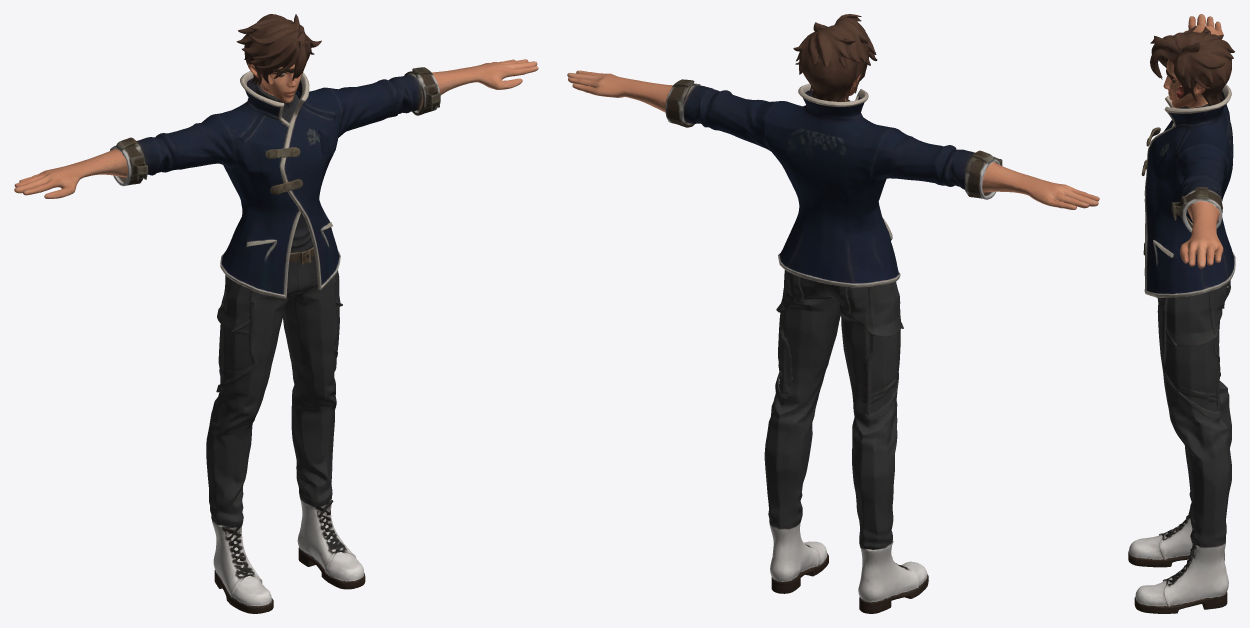
File: rowan-prototype.glb
3 views of the same model, side by side, from view 1: azimuth 30°, elevation 25°; view 2: azimuth 150°, elevation 25°; view 3: azimuth 270°, elevation 25° (orthographic). The views are drawn at different scales.
Parts seen in each view (by area): view 1: world; view 2: world; view 3: world.
Part boxes in pixels (<box>): world: <box>14,14,538,613</box>; world: <box>567,14,1099,613</box>; world: <box>1128,14,1235,613</box>.
Bounding box in the file's own units: 0.9783 × 0.9982 × 0.1766.
Materials: 1 (1 with a texture image).
